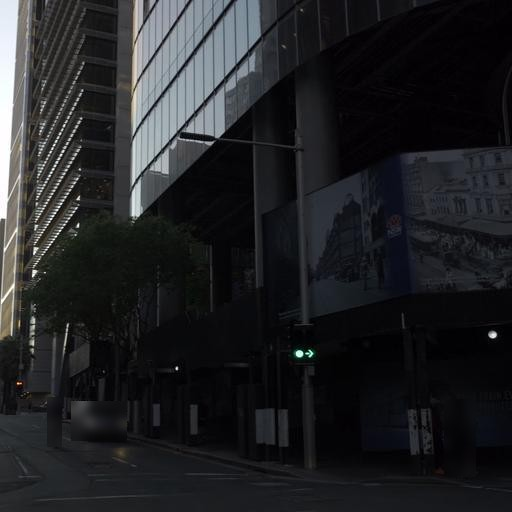apagada: (177, 130, 216, 143)
